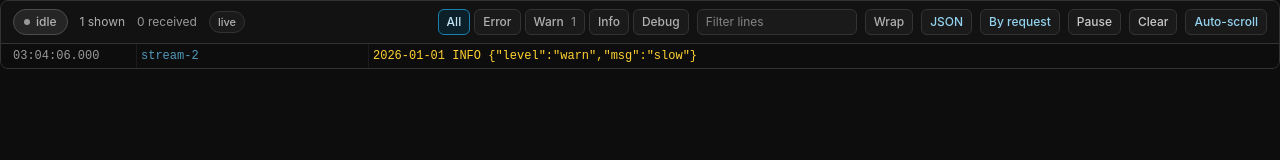
it: LogViewer expandable JSON lines › extracts the payload from a line with a prefix, leaving the rest out
The width and height of the screenshot is (1280, 160).
Click the button with test id "json-toggle".
click(947, 22)  # box [921, 9, 972, 35]
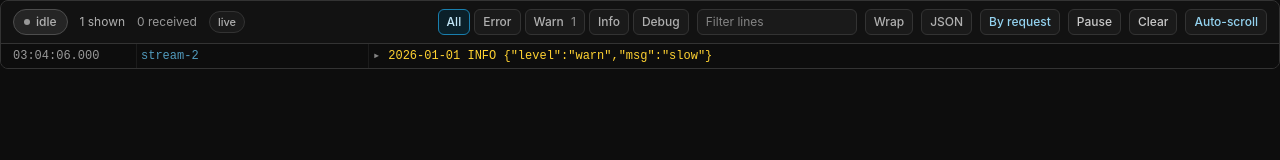
Click the button with test id "log-line".
click(56, 56)  # box [13, 49, 712, 63]
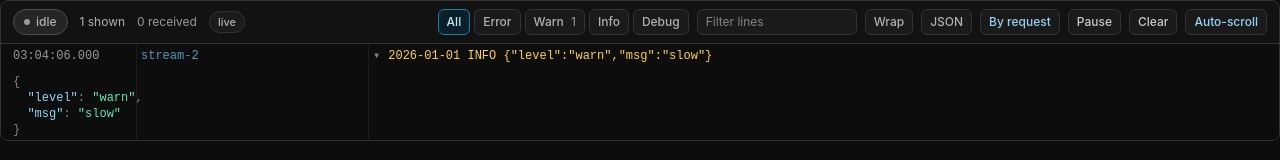
Expected: the element with test id "log-json-expanded" does not show "2026-01-01"
Result: the element with test id "log-json-expanded" shows "\"level\": \"warn\"" at [13, 75, 143, 137]
